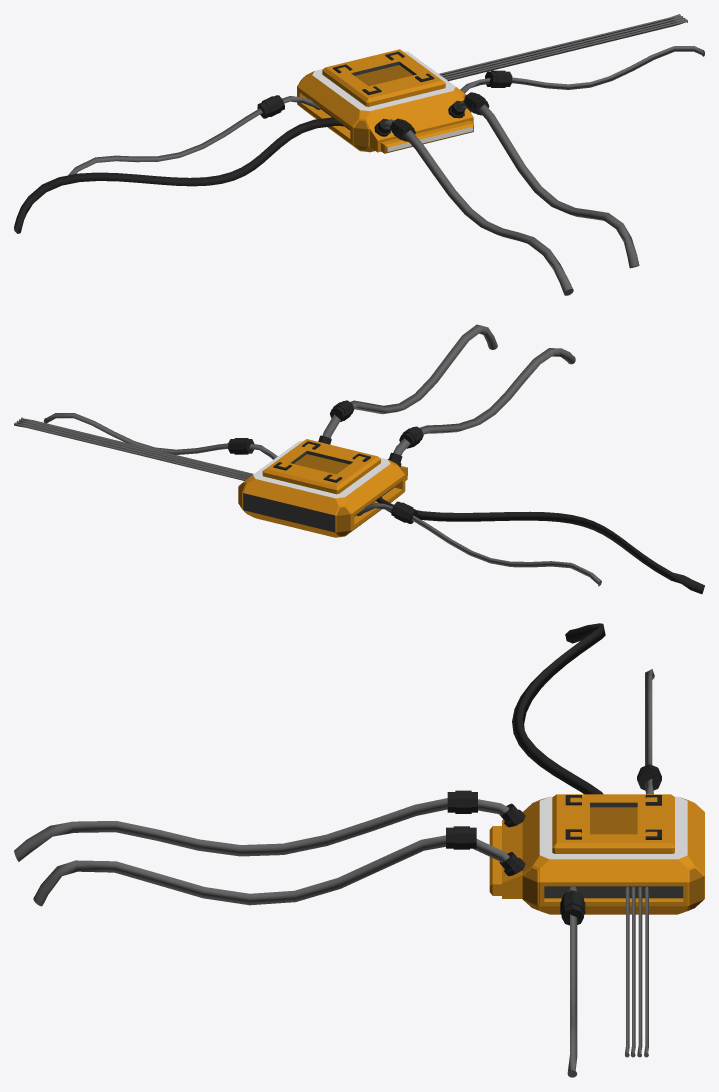
File: Pipe-3.fbx
The picture shows the model from 3 angles, top to bottom: view 1: azimuth 30°, elevation 25°; view 2: azimuth 150°, elevation 25°; view 3: azimuth 270°, elevation 25°; orthographic projection. The views are drawn at different scales.
Parts seen in each view (by area): view 1: Pipe-3; view 2: Pipe-3; view 3: Pipe-3.
Part boxes in pixels (left/top/right/bottom): Pipe-3: left=14, top=14, right=704, bottom=295; Pipe-3: left=14, top=324, right=704, bottom=594; Pipe-3: left=14, top=623, right=704, bottom=1077.
Bounding box in the file's own units: 4.41 × 0.4086 × 2.84.
